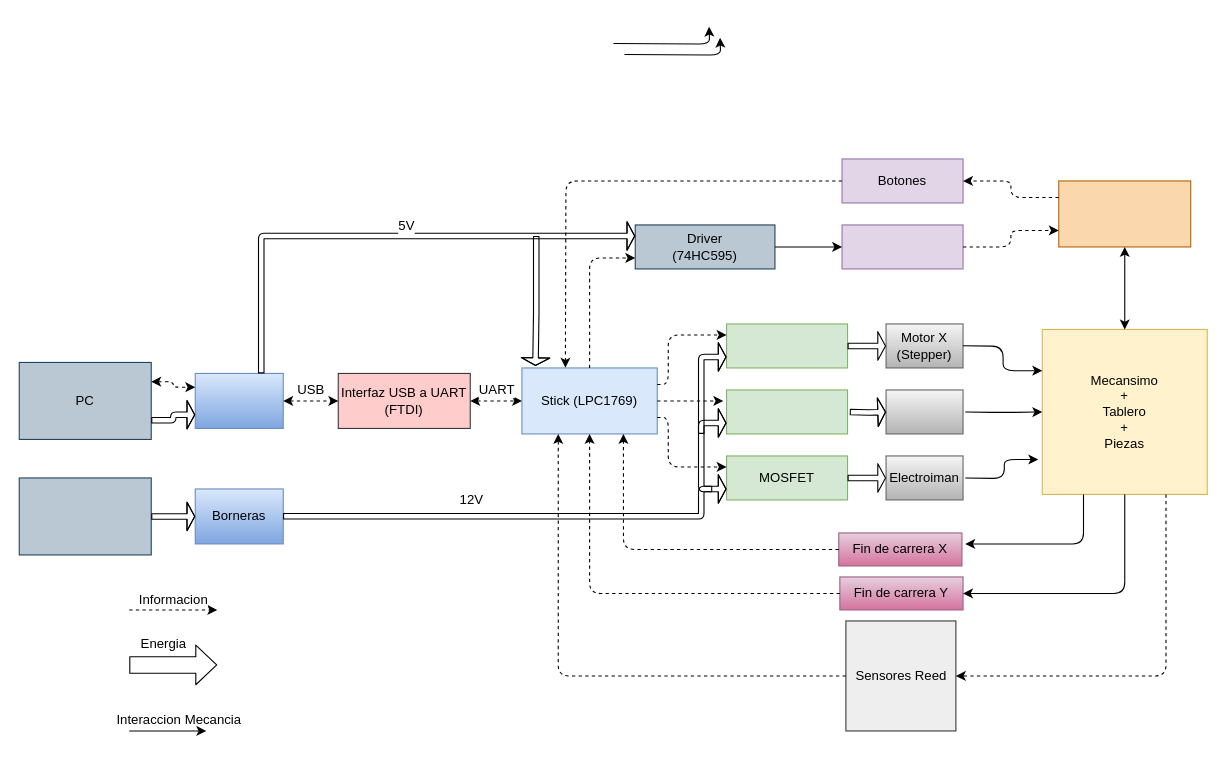
Some shapes in this 1227 by 760 pixel diagram are drawn without their labels. Here are the shapes that lost their labels. From the top down, the centre of each, then its label:
At pixel 1124 213: "Jugador".
At pixel 902 246: "LEDs".
At pixel 786 345: "Driver Motor X (A4988)".
At pixel 238 400: "Puerto USB".
At pixel 786 411: "Driver Motor Y (A4988)".
At pixel 924 411: "Motor Y (Stepper)".
At pixel 84 516: "Fuente 12V".
